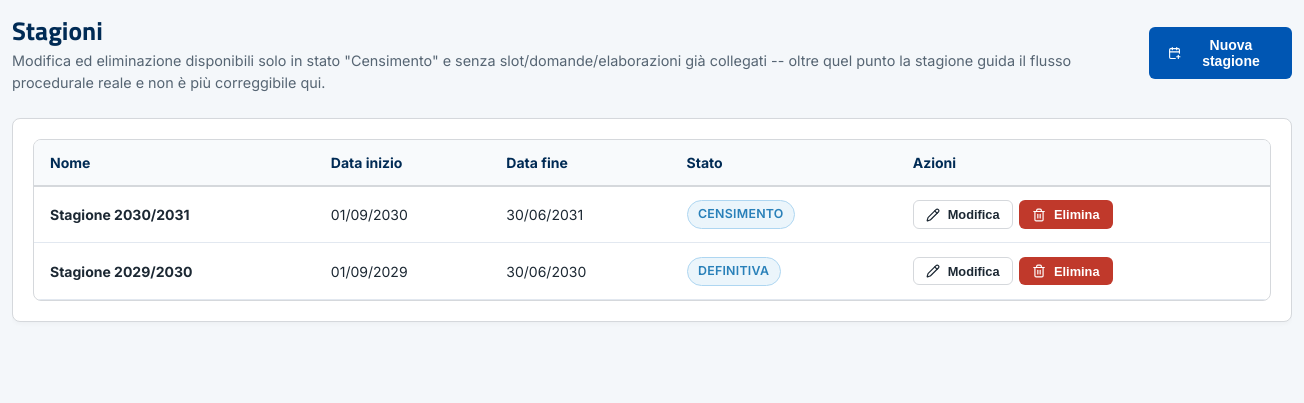
StagioniView › elimina: chiede conferma, se confermata chiama eliminaStagione
What coordinates should you click on to do the following:
click the button "Elimina" in the row of "Stagione 2030/2031"
I would click on:
 (1066, 214)
Its box is [1019,200,1112,229].
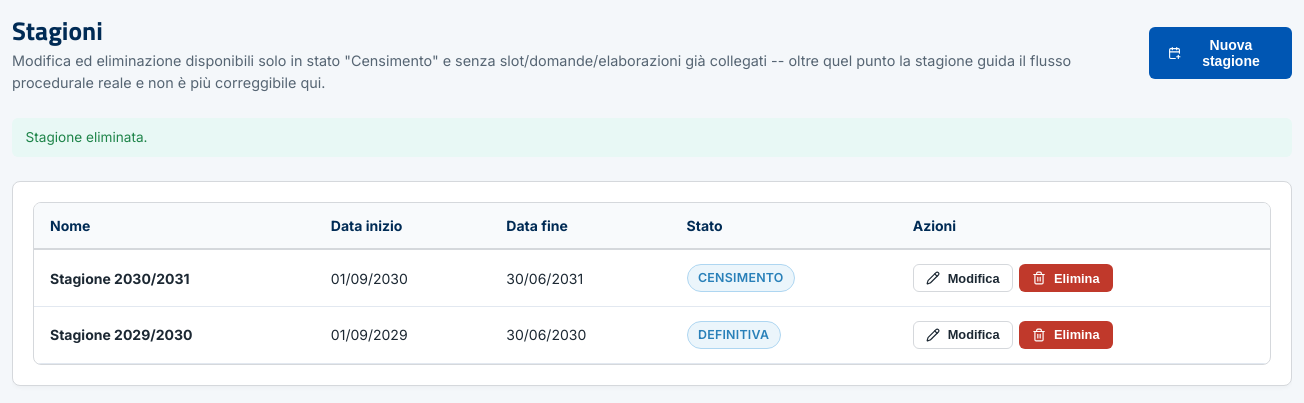
Expected: the text "Stagione eliminata." is shown, [12,118,1292,157]
